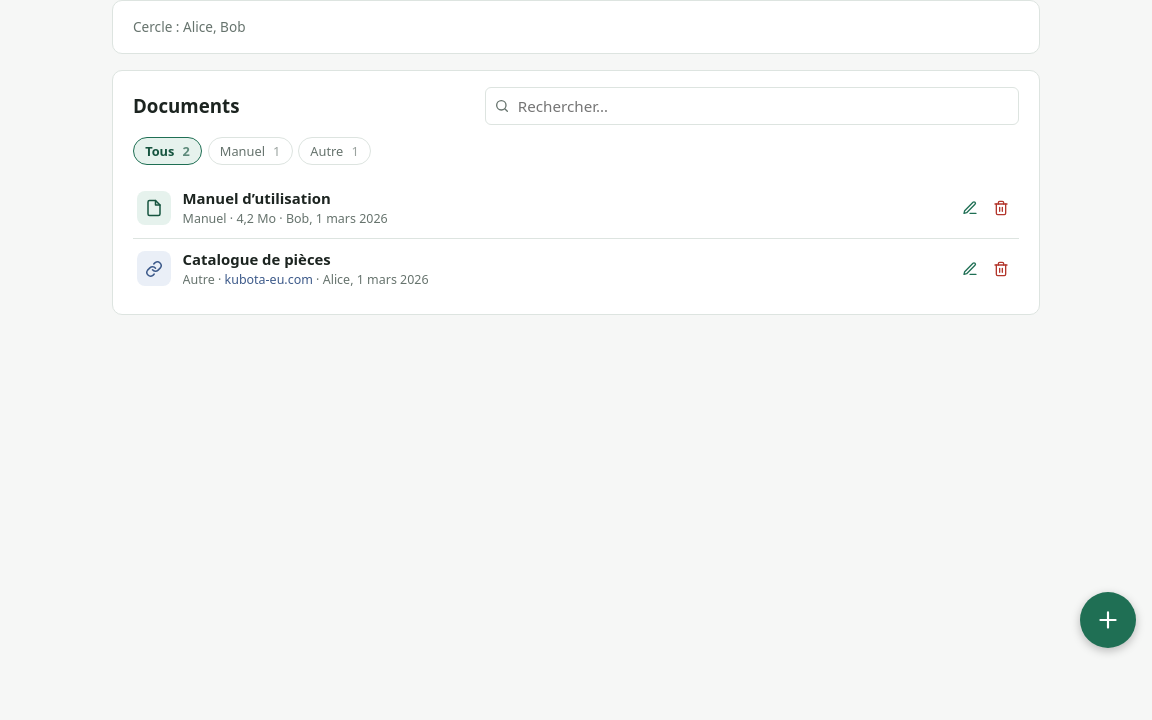
Test: liste du dossier › filtre par catégorie, et la recherche porte sur le nom comme sur le fichier
Expected: the text "Manuel d’utilisation" is shown, [183,188,331,208]
Click the button "Manuel 1". click: (250, 151)
box: [208,137,293,165]
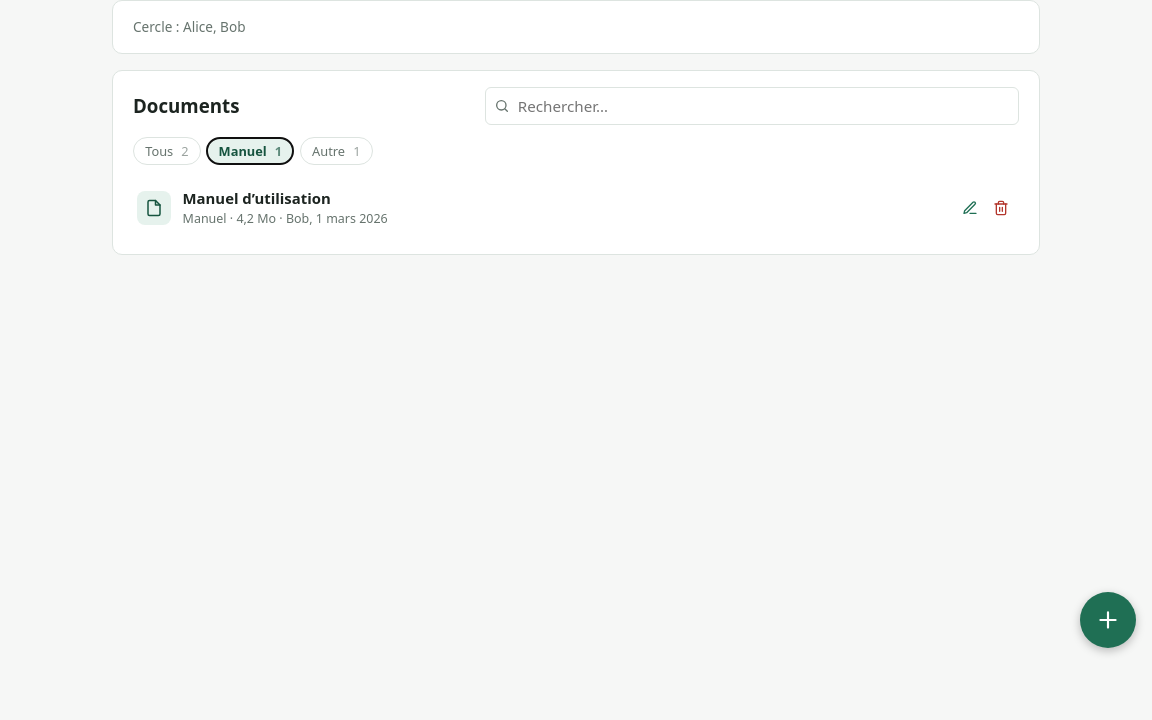
Expected: the link "Catalogue de pièces" is gone
Click the button "Tous 2". click: (167, 151)
box: [133,137,201,165]
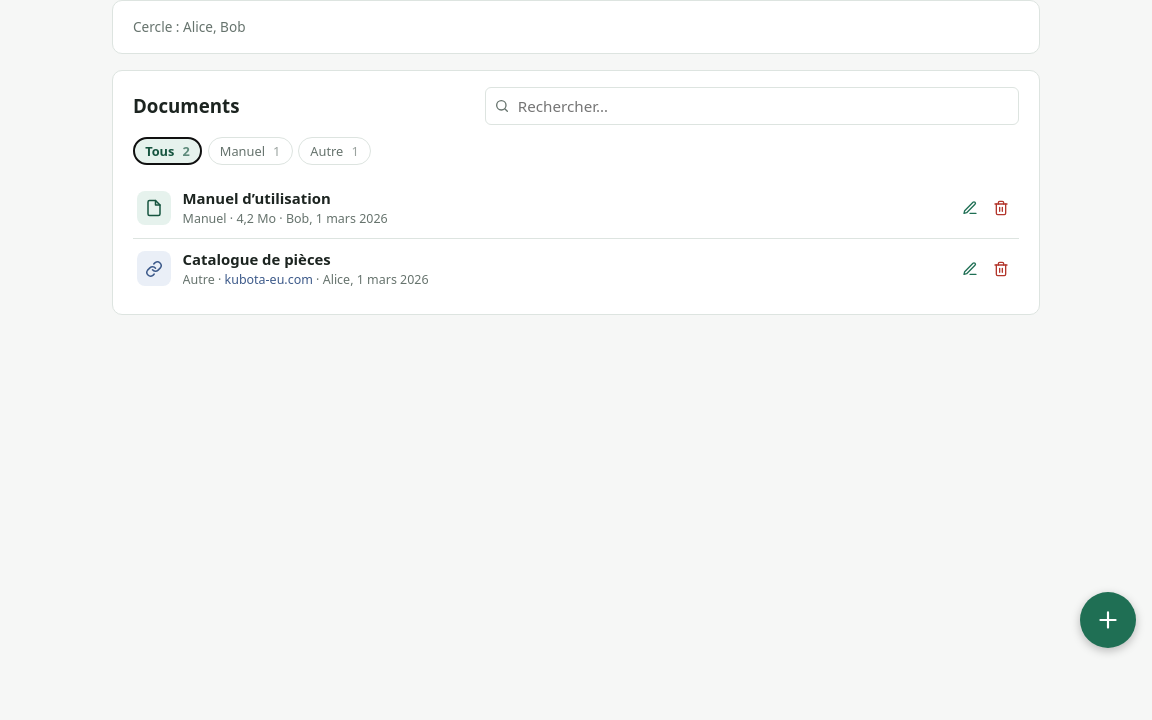
Type "manuel.pdf" into the search field named "Rechercher un document". click: (752, 106)
box: [485,87,1019,125]
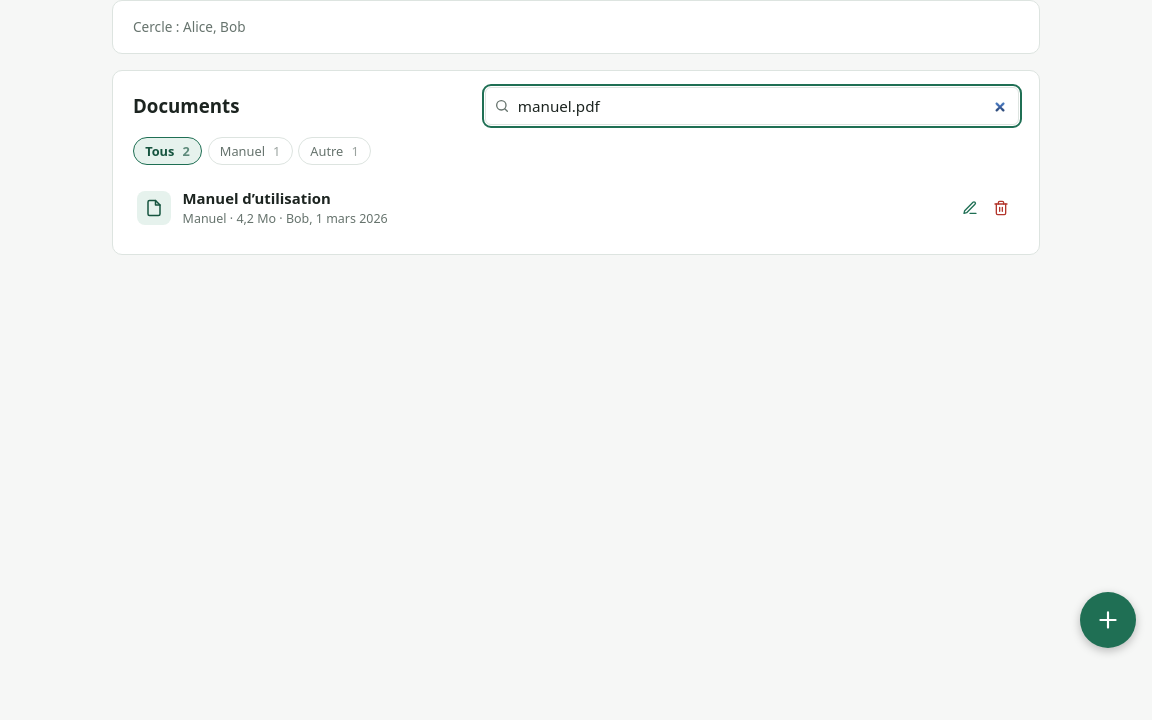
Expected: the text "Manuel d’utilisation" is shown, [183,188,331,208]
Expected: the link "Catalogue de pièces" is gone
